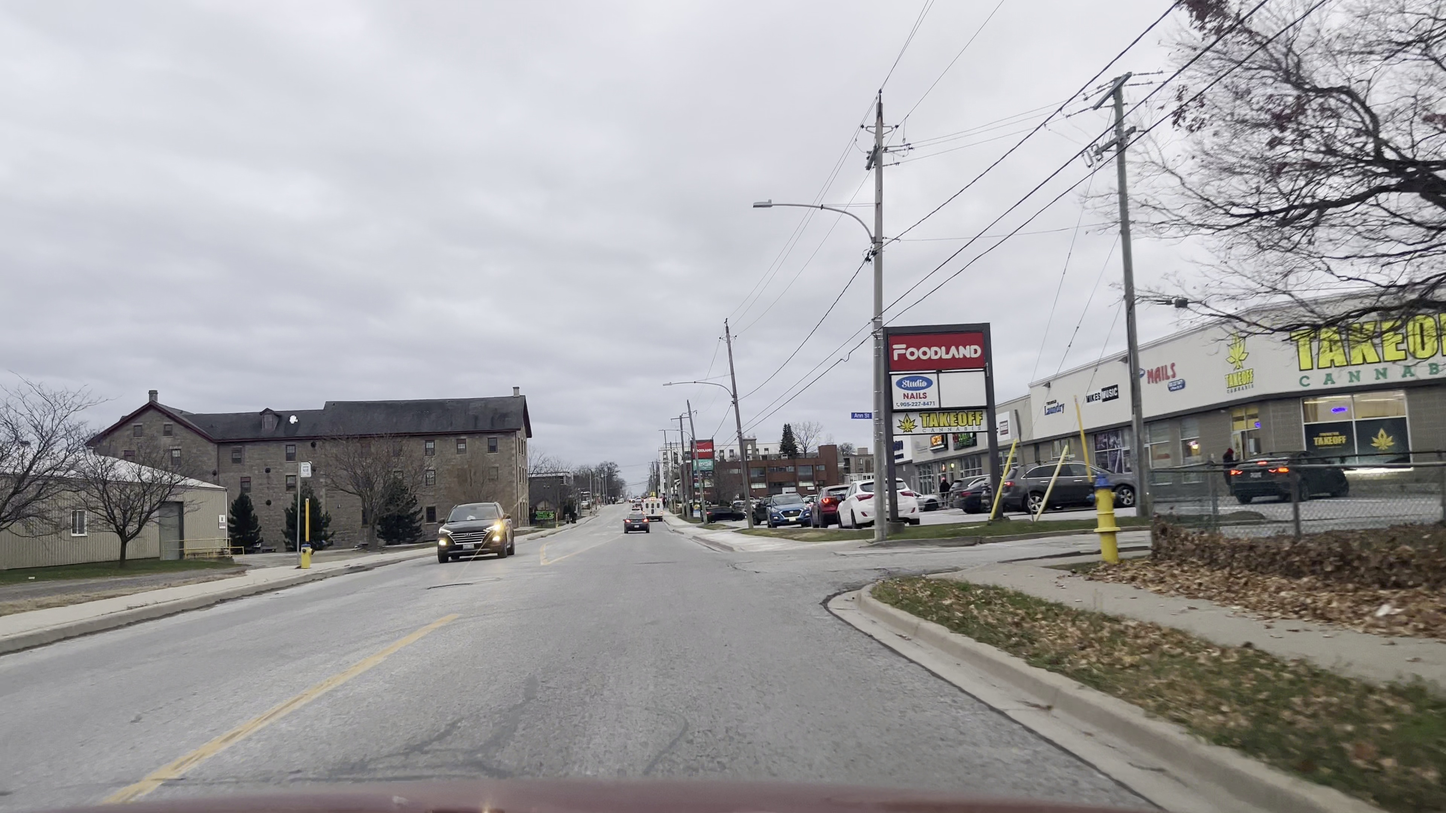cracks: (346, 720, 506, 779), (414, 576, 505, 597)
